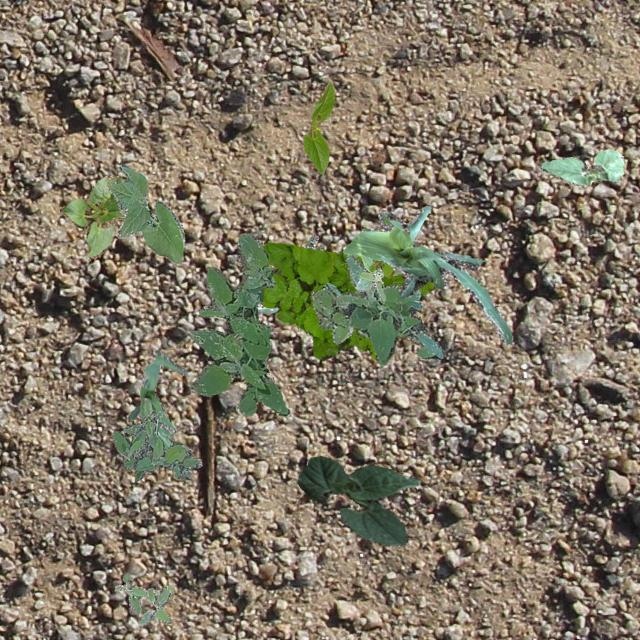crop: (342, 210, 512, 344), (255, 205, 430, 312), (296, 454, 418, 546), (105, 165, 183, 262), (128, 348, 186, 451), (58, 175, 124, 258), (540, 148, 624, 186), (302, 82, 334, 174)
weed: (260, 242, 434, 360), (188, 232, 288, 416), (312, 253, 444, 364), (111, 396, 200, 479), (311, 282, 367, 342), (115, 574, 172, 624), (354, 254, 402, 300), (368, 258, 394, 276)
